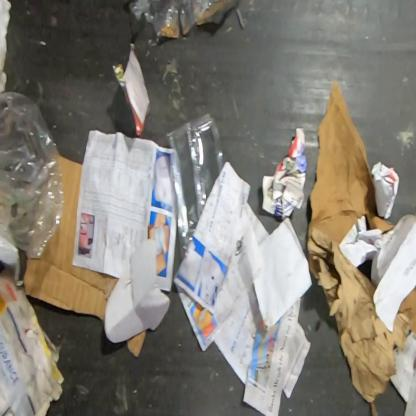cardboard: (23, 154, 119, 322), (0, 235, 66, 415), (102, 237, 172, 344), (252, 216, 314, 327), (195, 0, 242, 28), (397, 285, 416, 335), (126, 330, 146, 358)
rigid_plastic: (127, 0, 215, 39)
soft_plastic: (0, 89, 65, 260), (164, 111, 224, 265)
